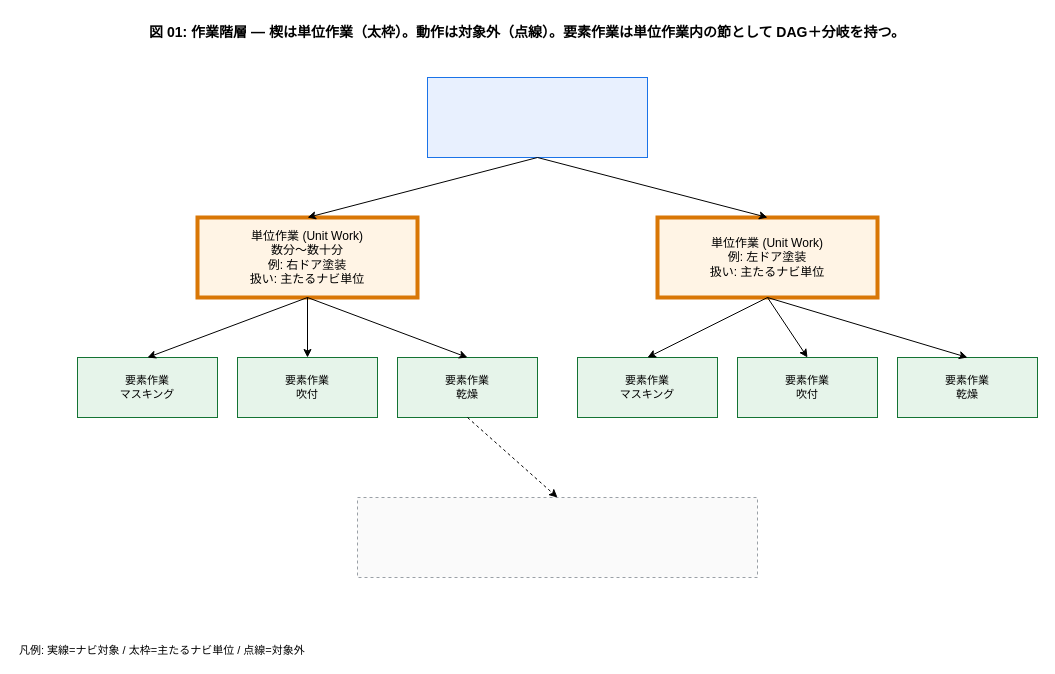
Some shapes in this 1055 by 674 pixel diagram are drawn without their labels. Here are the shapes that lost their labels. From the top down, the centre of each, then its label:
At point (537, 117): "工程 (Process) 時間〜日 例: 塗装工程 扱い: 文脈として保持".
At point (557, 537): "動作 (Motion / Therblig) — 秒以下 例: 手を伸ばす ／ 掴む 扱い: 取扱対象外（§12 NS-1）".
